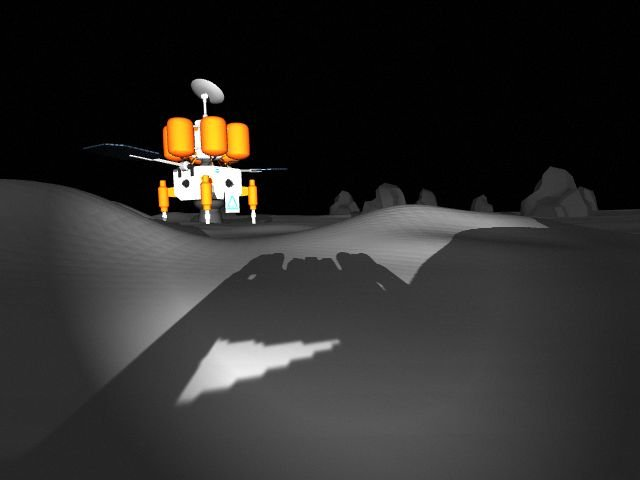homebase: (81, 73, 295, 230)
